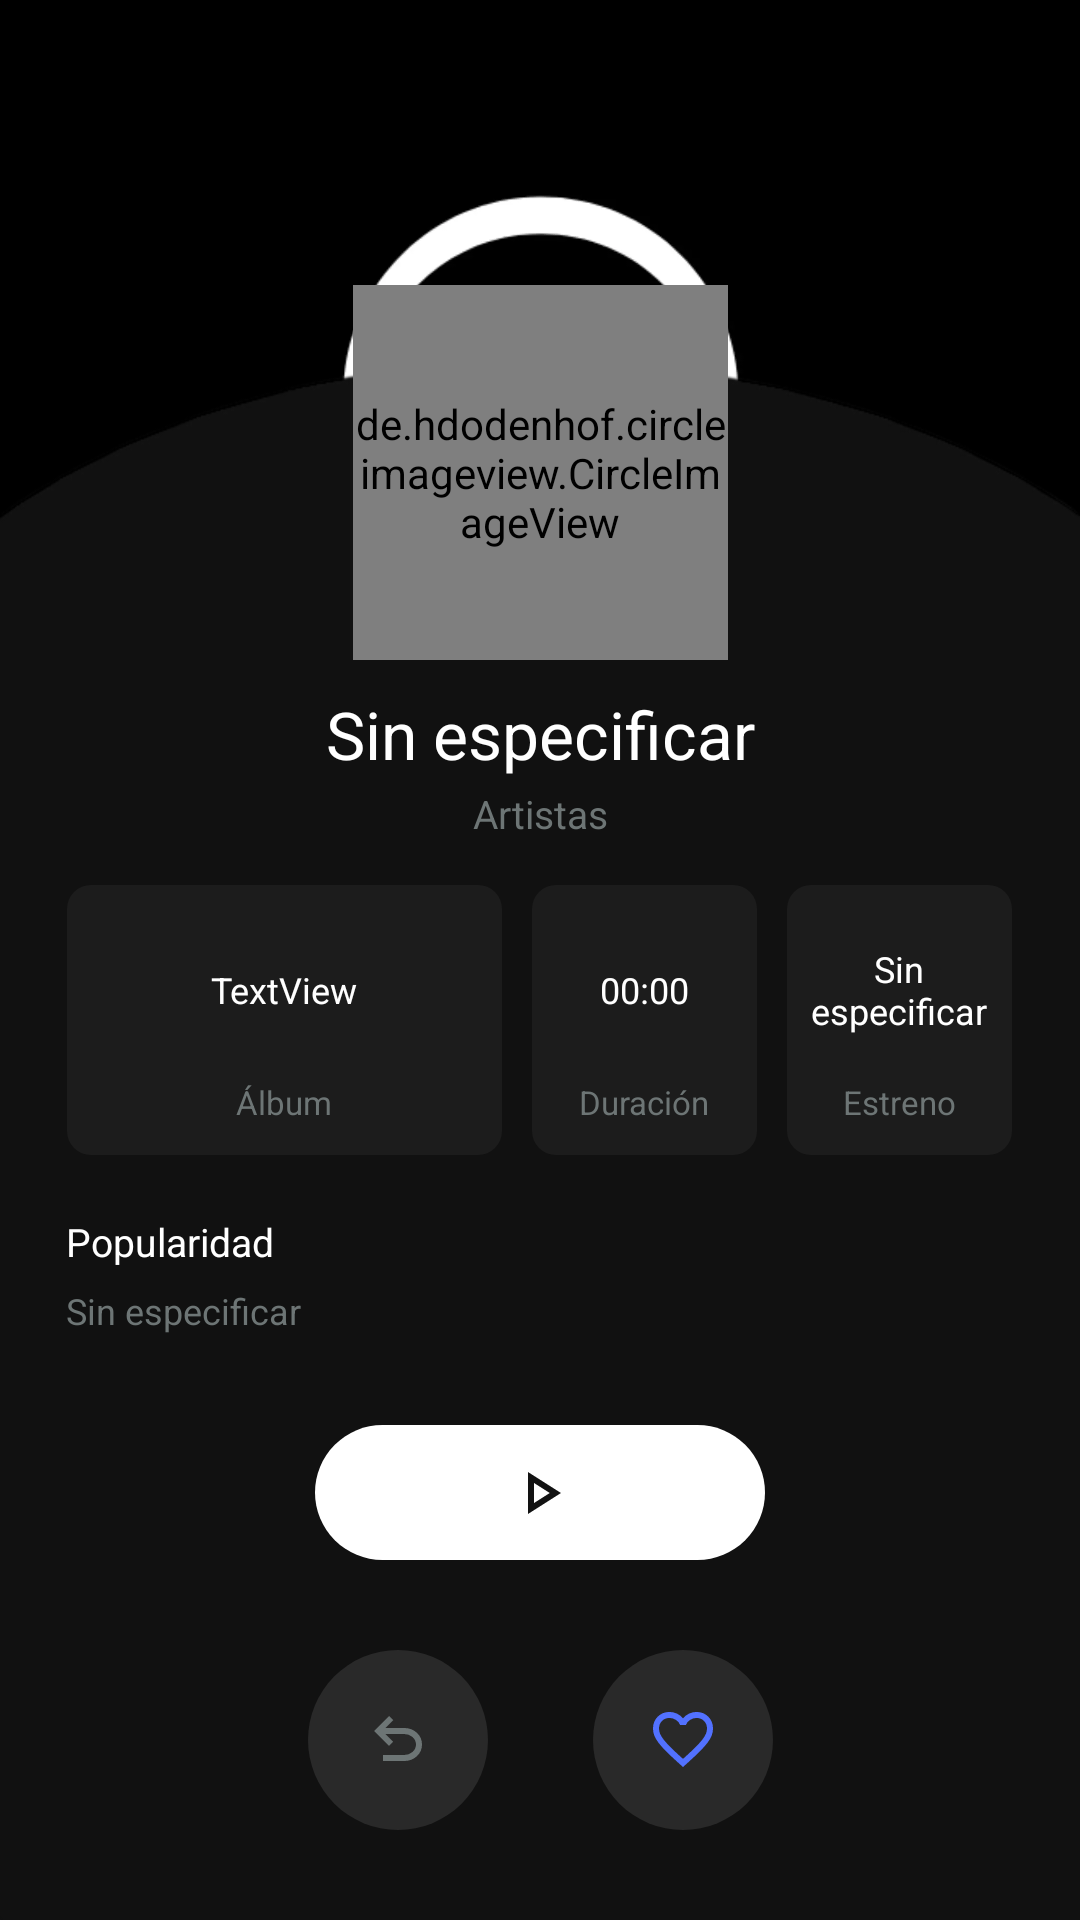

Point at icon controls on the screen. Image size 1080px x 1920px, points as (x,y).
back: (398,1740)
favorite: (683,1740)
